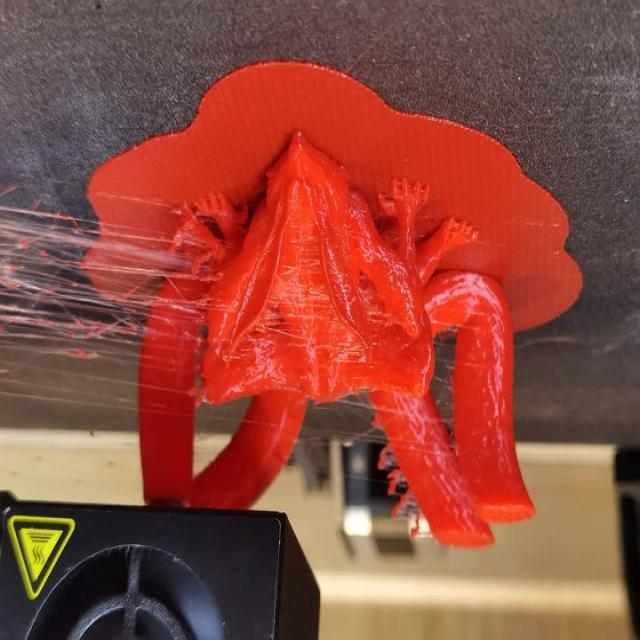Stringing: (70, 222, 190, 366), (0, 190, 72, 366), (0, 362, 128, 410), (334, 391, 376, 418)
